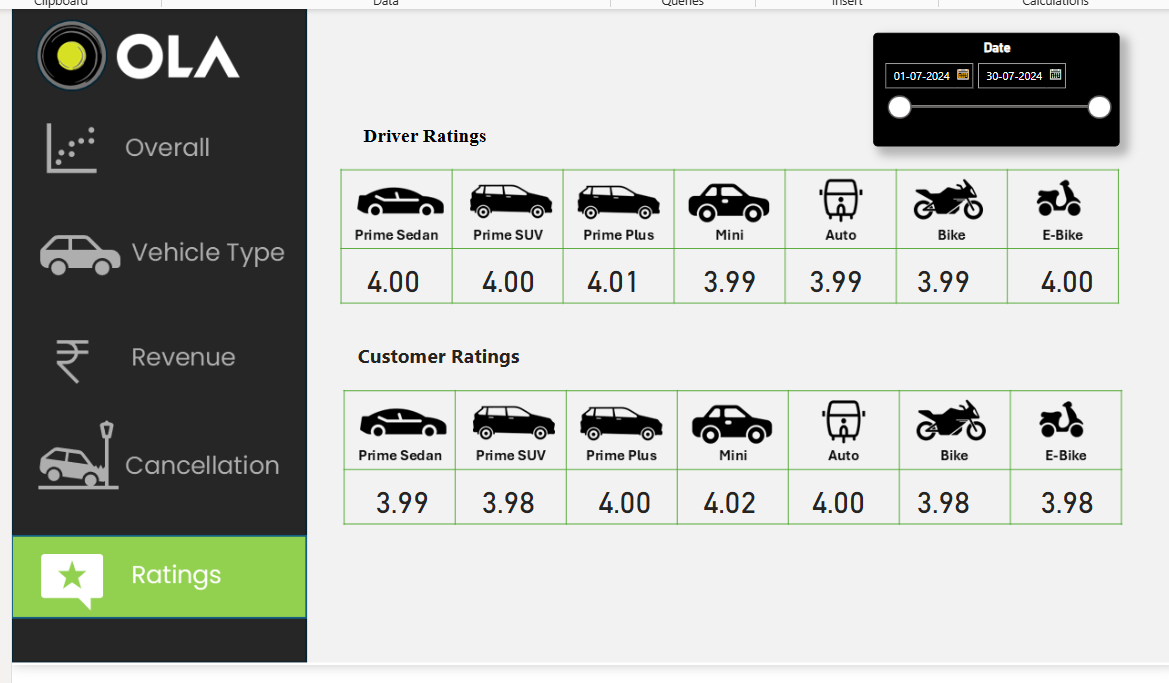

The page's visual inventory and layout, read from the dashboard file:
{"tool":"powerbi","page":{"name":"Ratings","canvas":[1280,720],"ordinal":4},"visuals":[{"type":"actionButton","box":[0,223.2,324.5,89.3],"z":0},{"type":"actionButton","box":[0,329.4,324.5,89.3],"z":1000},{"type":"actionButton","box":[0,452.4,324.5,89.3],"z":2000},{"type":"actionButton","box":[0,106.2,324.5,89.3],"z":3000},{"type":"slicer","title":"Date","fields":{"Values":["July.Date"]},"box":[945.2,25.5,270.5,124.7],"z":4000},{"type":"card","fields":{"Values":["Avg(July.Driver_Ratings)"]},"box":[360.6,267.5,115.7,58.6],"z":5000},{"type":"card","fields":{"Values":["Avg(July.Driver_Ratings)"]},"box":[486.9,267.5,115.7,58.6],"z":6000},{"type":"card","fields":{"Values":["Avg(July.Driver_Ratings)"]},"box":[602.6,267.5,115.7,58.6],"z":7000},{"type":"card","fields":{"Values":["Avg(July.Driver_Ratings)"]},"box":[730.3,267.5,115.7,58.6],"z":8000},{"type":"card","fields":{"Values":["Avg(July.Driver_Ratings)"]},"box":[846,267.5,115.7,58.6],"z":9000},{"type":"card","fields":{"Values":["Avg(July.Driver_Ratings)"]},"box":[964.7,267.5,115.7,58.6],"z":10000},{"type":"card","fields":{"Values":["Avg(July.Driver_Ratings)"]},"box":[1100,267.5,115.7,58.6],"z":11000},{"type":"textbox","box":[360.6,121.7,184.8,39.1],"z":12000},{"type":"textbox","box":[374.2,360.6,205.9,43.6],"z":13000},{"type":"card","fields":{"Values":["Avg(July.Customer_Rating)"]},"box":[371.2,510.9,115.7,58.6],"z":14000},{"type":"card","fields":{"Values":["Avg(July.Customer_Rating)"]},"box":[486.9,510.9,115.7,58.6],"z":15000},{"type":"card","fields":{"Values":["Avg(July.Customer_Rating)"]},"box":[614.6,510.9,115.7,58.6],"z":16000},{"type":"card","fields":{"Values":["Avg(July.Customer_Rating)"]},"box":[730.3,510.9,115.7,58.6],"z":17000},{"type":"card","fields":{"Values":["Avg(July.Customer_Rating)"]},"box":[849,510.9,115.7,58.6],"z":18000},{"type":"card","fields":{"Values":["Avg(July.Customer_Rating)"]},"box":[964.7,510.9,115.7,58.6],"z":19000},{"type":"card","fields":{"Values":["Avg(July.Customer_Rating)"]},"box":[1100,510.9,115.7,58.6],"z":19001}]}

Visuals, with their boxes on the page's 1280x720 design canvas (x1, y1, x2, y2). These are canvas units, not pixel positions in the 1169x683 screenshot, which may show the page scaled, cropped or inside an application window:
actionButton: <box>0,223,324,312</box>
actionButton: <box>0,329,324,419</box>
actionButton: <box>0,452,324,542</box>
actionButton: <box>0,106,324,196</box>
"Date" slicer: <box>945,26,1216,150</box>
card - Avg(July.Driver_Ratings): <box>361,268,476,326</box>
card - Avg(July.Driver_Ratings): <box>487,268,603,326</box>
card - Avg(July.Driver_Ratings): <box>603,268,718,326</box>
card - Avg(July.Driver_Ratings): <box>730,268,846,326</box>
card - Avg(July.Driver_Ratings): <box>846,268,962,326</box>
card - Avg(July.Driver_Ratings): <box>965,268,1080,326</box>
card - Avg(July.Driver_Ratings): <box>1100,268,1216,326</box>
textbox: <box>361,122,545,161</box>
textbox: <box>374,361,580,404</box>
card - Avg(July.Customer_Rating): <box>371,511,487,570</box>
card - Avg(July.Customer_Rating): <box>487,511,603,570</box>
card - Avg(July.Customer_Rating): <box>615,511,730,570</box>
card - Avg(July.Customer_Rating): <box>730,511,846,570</box>
card - Avg(July.Customer_Rating): <box>849,511,965,570</box>
card - Avg(July.Customer_Rating): <box>965,511,1080,570</box>
card - Avg(July.Customer_Rating): <box>1100,511,1216,570</box>
